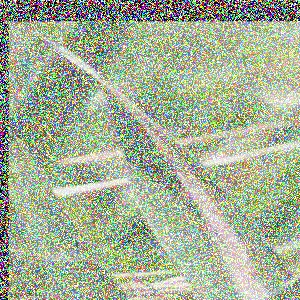Leaf_Blast: (179, 163, 271, 300)
